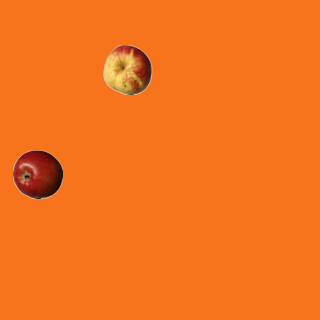Apple Braeburn: (12, 149, 62, 199)
Apple Red Yellow 1: (102, 44, 152, 94)
